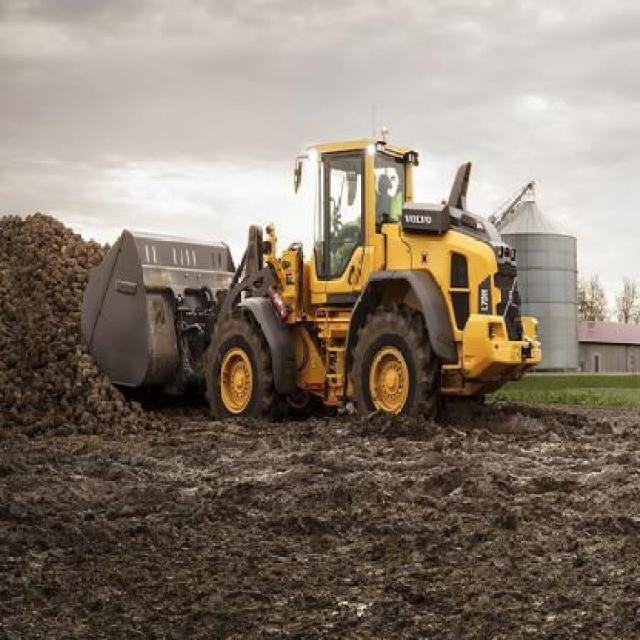buldozerpayloadergrader: (81, 125, 548, 446)
